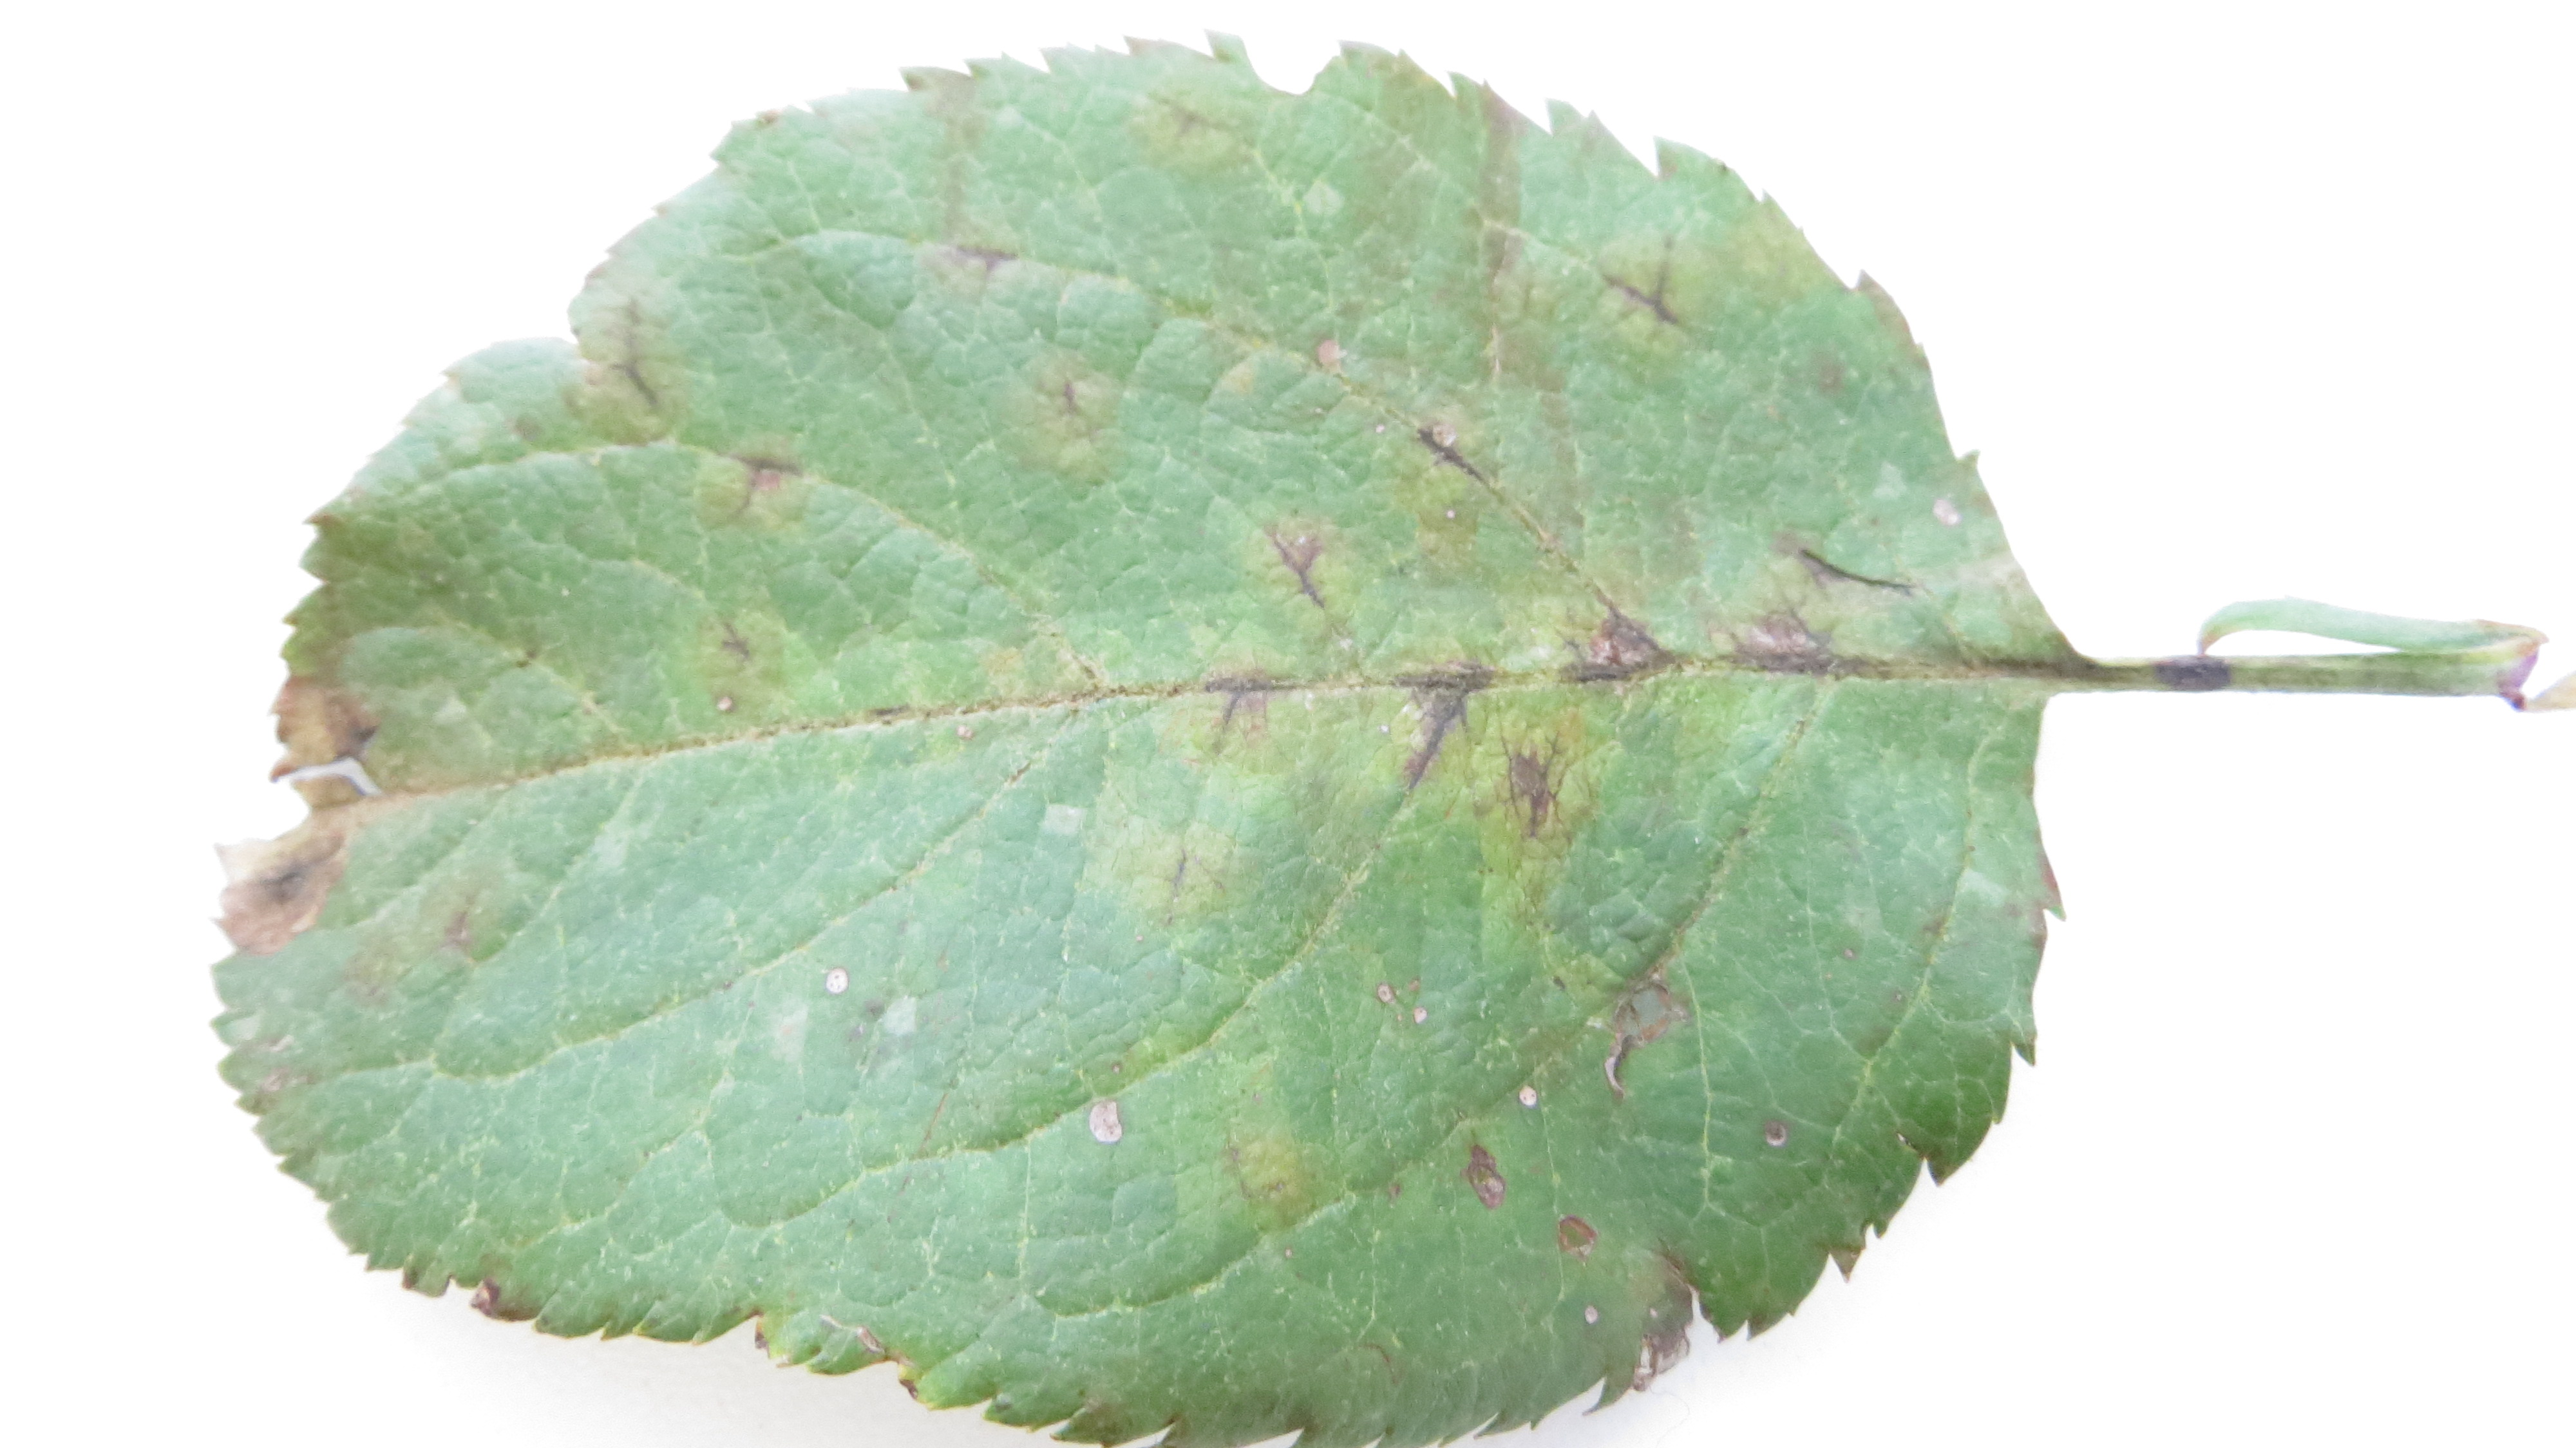sarna: (1306, 55, 1449, 326), (1447, 78, 1553, 389), (1470, 710, 1605, 944), (1146, 635, 1316, 781), (1546, 582, 1698, 726), (570, 273, 695, 446), (264, 651, 391, 807), (1376, 635, 1511, 781), (1001, 335, 1127, 485), (1589, 961, 1711, 1112), (1100, 805, 1244, 933), (218, 805, 345, 945), (1024, 609, 1136, 765), (686, 414, 828, 535), (1730, 598, 1874, 705), (1205, 1112, 1316, 1244), (1755, 508, 1918, 598), (686, 597, 794, 726), (1191, 262, 1281, 416), (920, 184, 1028, 312), (1122, 73, 1254, 172), (1247, 497, 1345, 628), (1591, 227, 1693, 343), (855, 673, 1005, 751), (1969, 612, 2093, 706), (1631, 1239, 1704, 1391), (1389, 393, 1493, 497), (916, 55, 1003, 177), (338, 935, 433, 1039), (425, 855, 497, 970), (458, 1257, 547, 1344), (1447, 1122, 1507, 1227), (1069, 1082, 1141, 1158), (1539, 1209, 1615, 1273), (1748, 1101, 1796, 1158)
